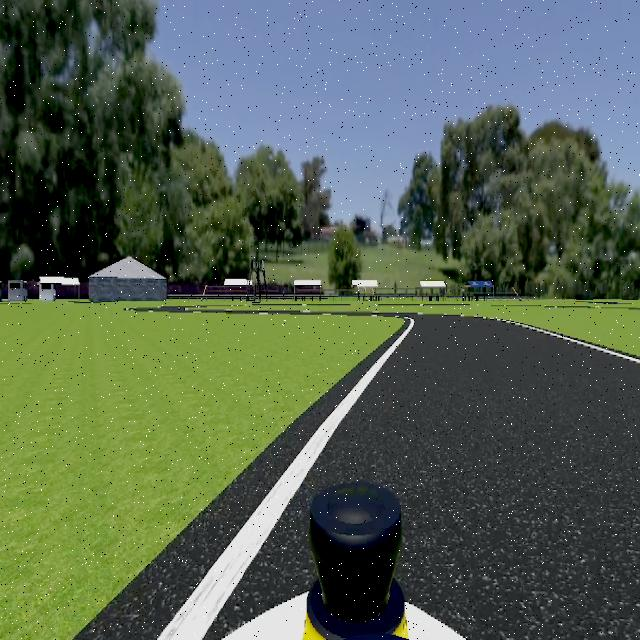road: (204, 318, 640, 640)
solid_line: (156, 321, 413, 640), (496, 319, 640, 365)
